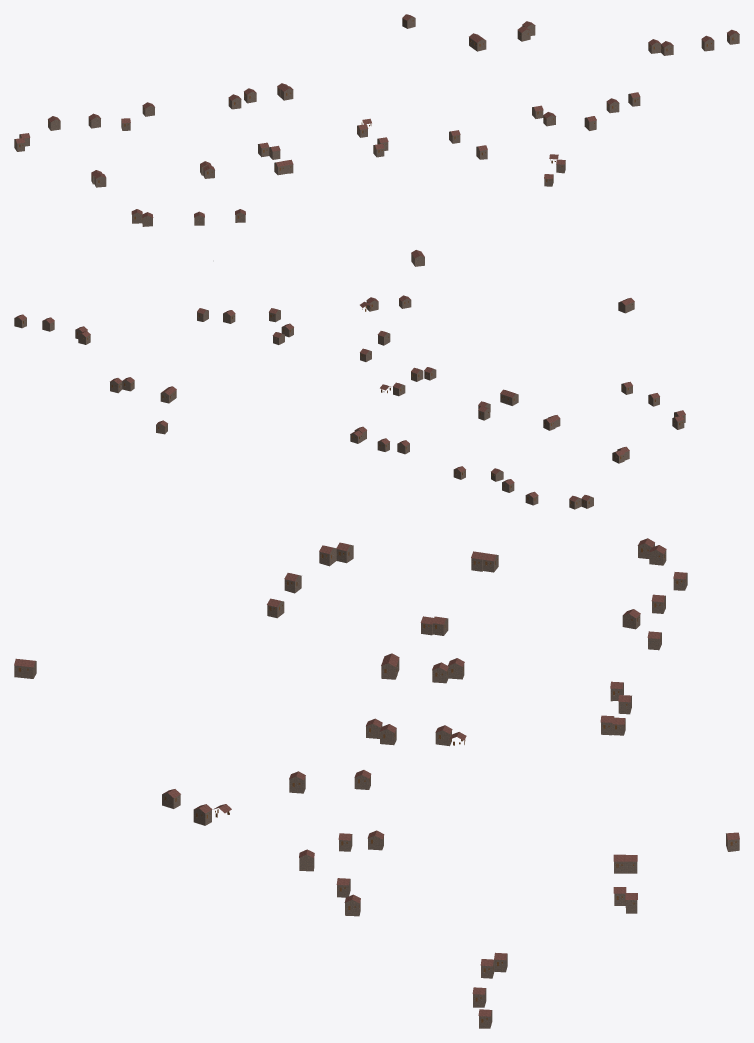
Rendered from CasasInterioresSinTextura.fbx.
The picture shows the model from 3 angles, top to bottom: view 1: azimuth 30°, elevation 25°; view 2: azimuth 150°, elevation 25°; view 3: azimuth 270°, elevation 25°; orthographic projection. The views are drawn at different scales.
Bounding box in the file's own units: 52528 × 1986 × 35063.
